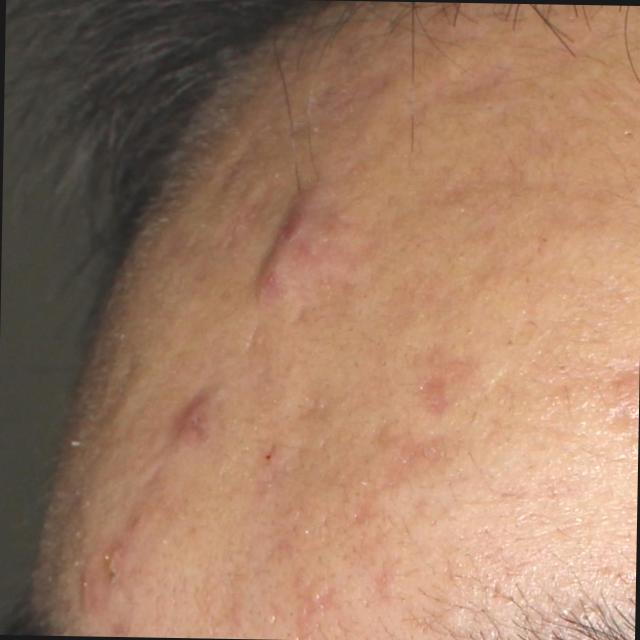blackhead: (623, 130, 633, 138)
